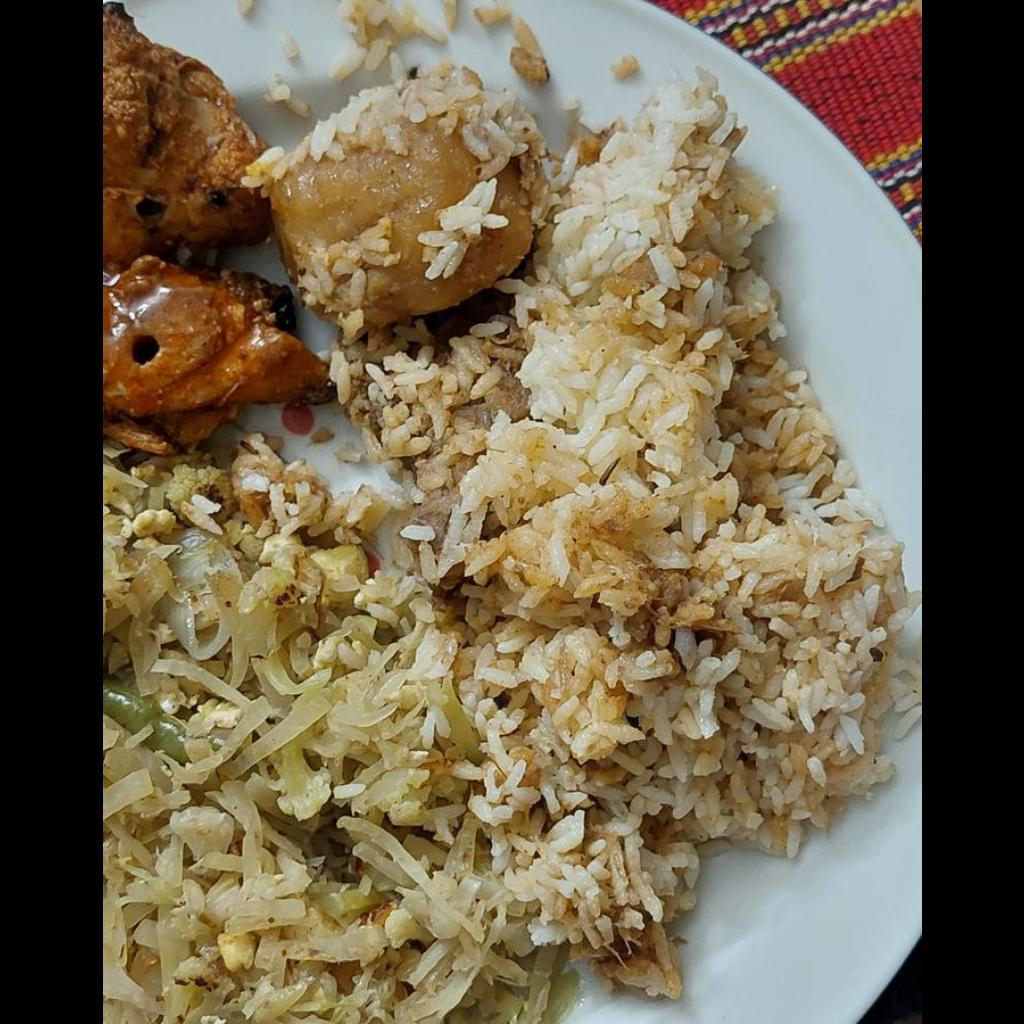biriyani: (102, 12, 920, 1020)
